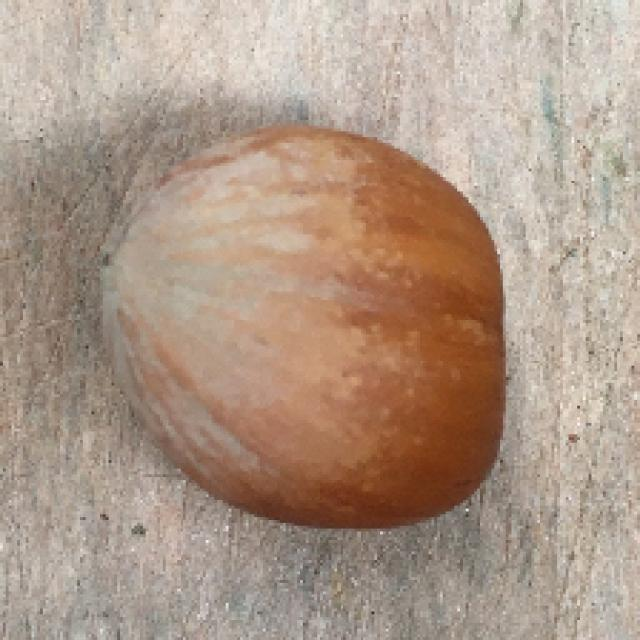qualityHazelnut: (91, 122, 516, 535)
